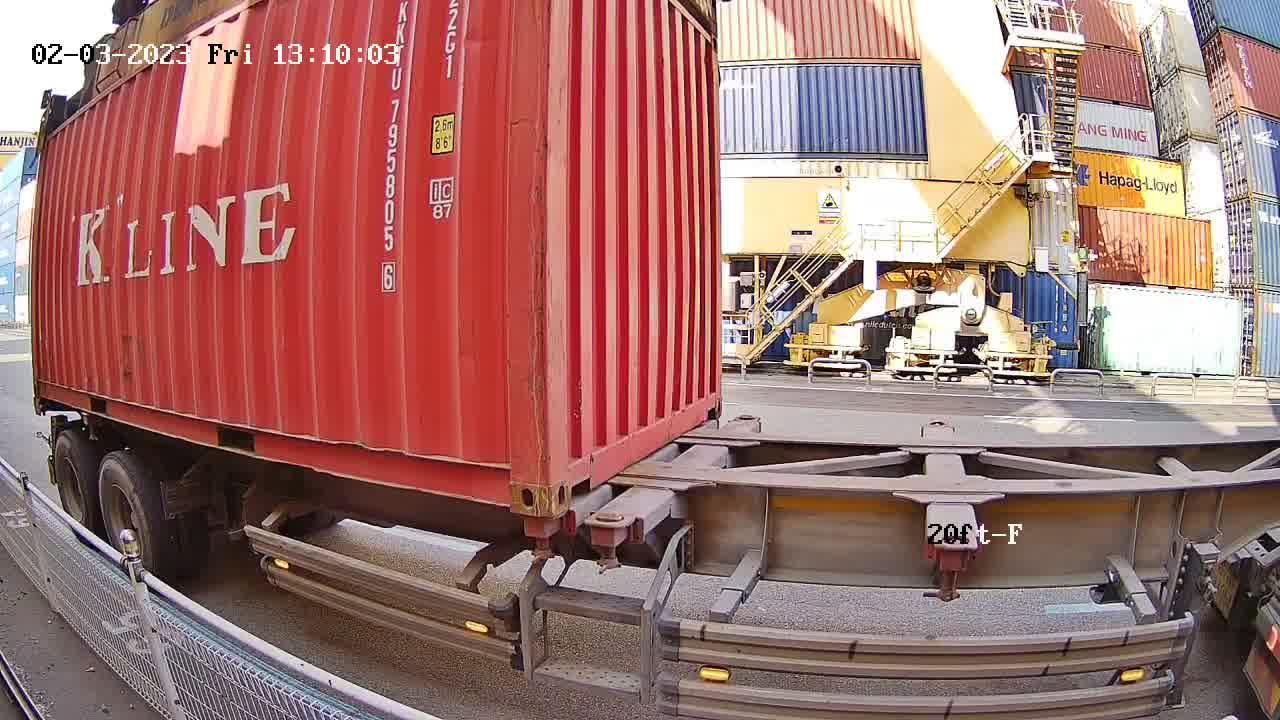Chassis: (583, 414, 761, 533)
Cone: (586, 513, 636, 575), (514, 515, 563, 561)
Hole_L: (550, 428, 599, 517)
Hole_R: (476, 438, 553, 517), (693, 375, 723, 426)
Tire: (98, 457, 153, 575), (53, 438, 95, 537)
